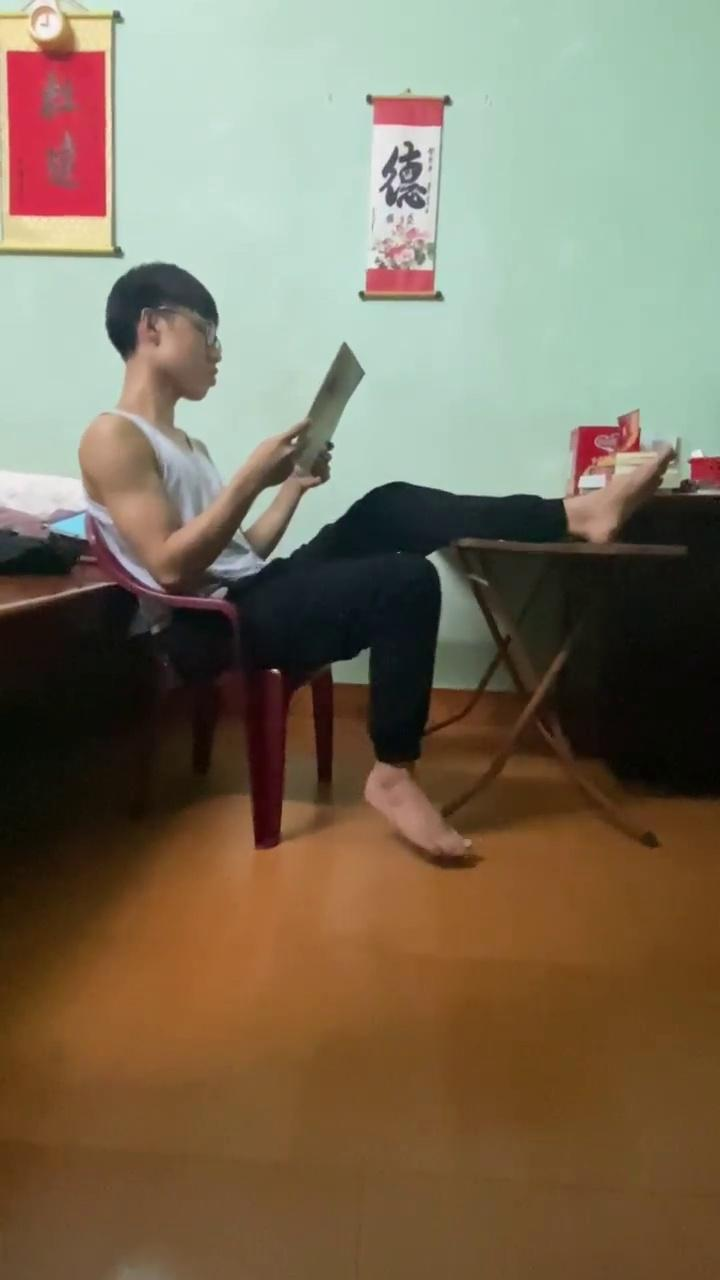BadPosture: (278, 446, 674, 868)
